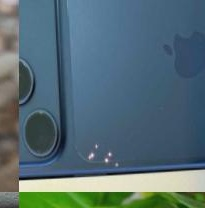scratch: (78, 115, 139, 191)
